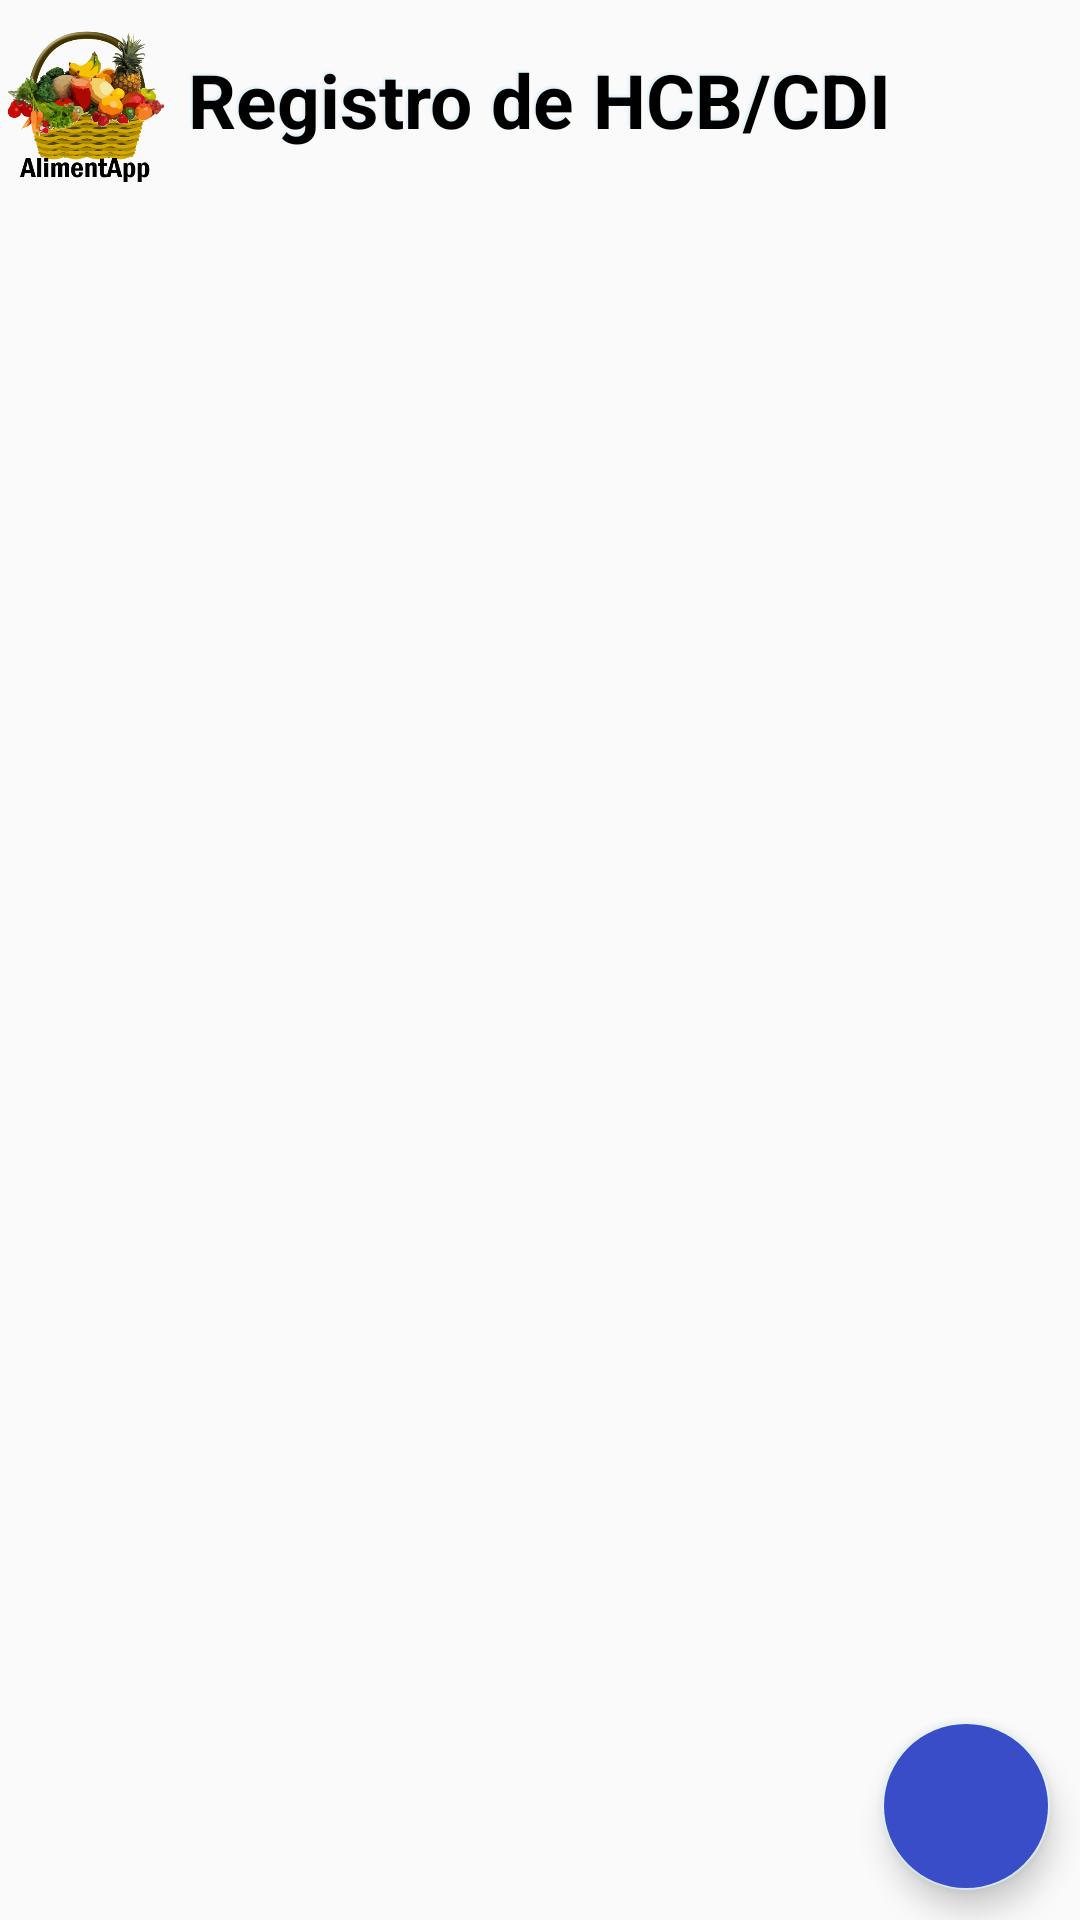

Where icons sit on this 1080*1920 app screen, as (x1, y1, x2, y2):
iconosuperior: (8, 31, 165, 182)
